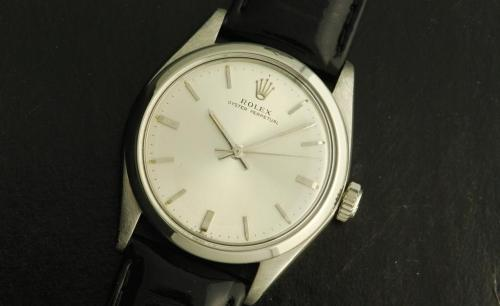watch: (111, 31, 372, 271)
